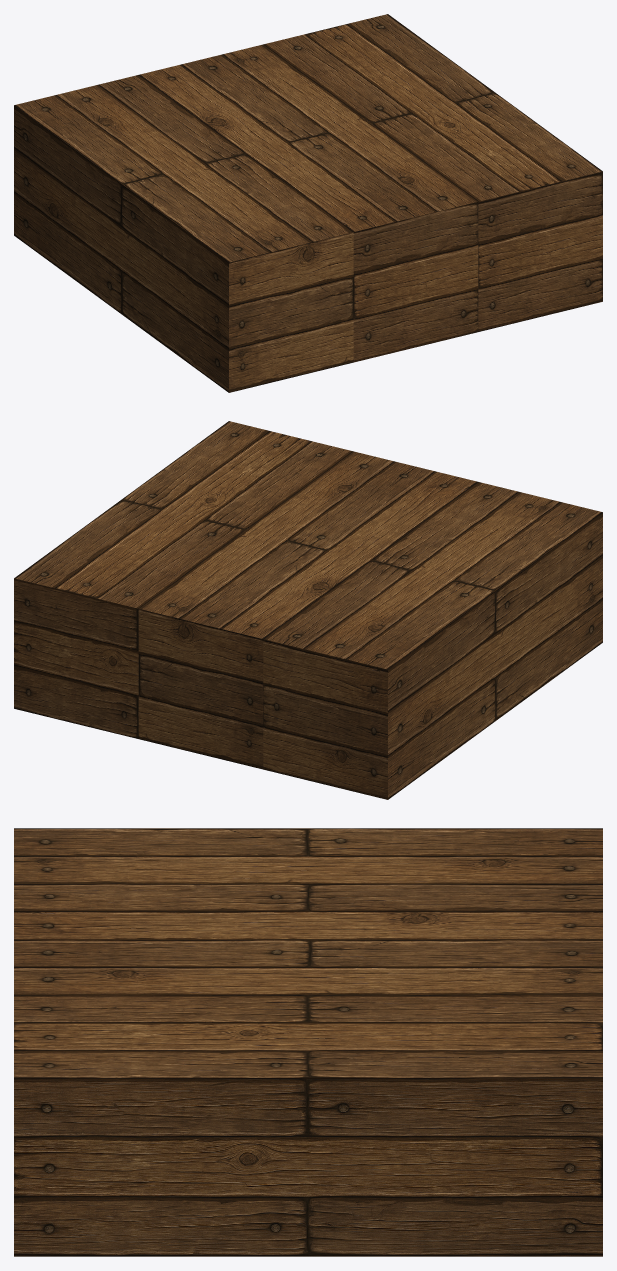
Rendered from Jenga_Block_Wood.fbx.
The picture shows the model from 3 angles, top to bottom: view 1: azimuth 30°, elevation 25°; view 2: azimuth 150°, elevation 25°; view 3: azimuth 270°, elevation 25°; orthographic projection. The views are drawn at different scales.
Visible parts, largest first — view 1: Jenga_Block.004, Jenga_Block.005, Jenga_Block.003; view 2: Jenga_Block.004, Jenga_Block.005, Jenga_Block.003; view 3: Jenga_Block.003, Jenga_Block.004, Jenga_Block.005.
Part boxes in pixels (left/top/right/bottom): Jenga_Block.004: left=14, top=75, right=353, bottom=392; Jenga_Block.005: left=139, top=44, right=478, bottom=362; Jenga_Block.003: left=263, top=14, right=602, bottom=331; Jenga_Block.004: left=263, top=482, right=602, bottom=799; Jenga_Block.005: left=138, top=451, right=477, bottom=769; Jenga_Block.003: left=14, top=421, right=353, bottom=738; Jenga_Block.003: left=14, top=995, right=602, bottom=1256; Jenga_Block.004: left=14, top=828, right=602, bottom=911; Jenga_Block.005: left=14, top=911, right=602, bottom=994.
Size of the model in its own units: 150 by 49.95 by 149.
